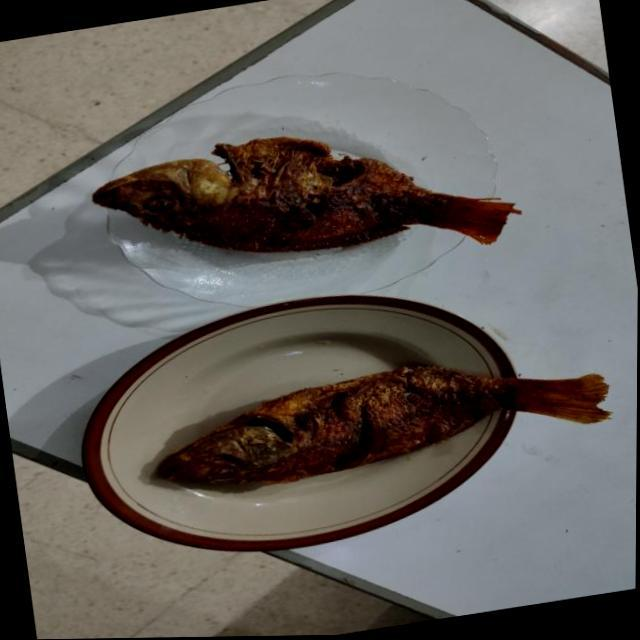ikan_mujair: (158, 366, 610, 484), (92, 137, 520, 252)
